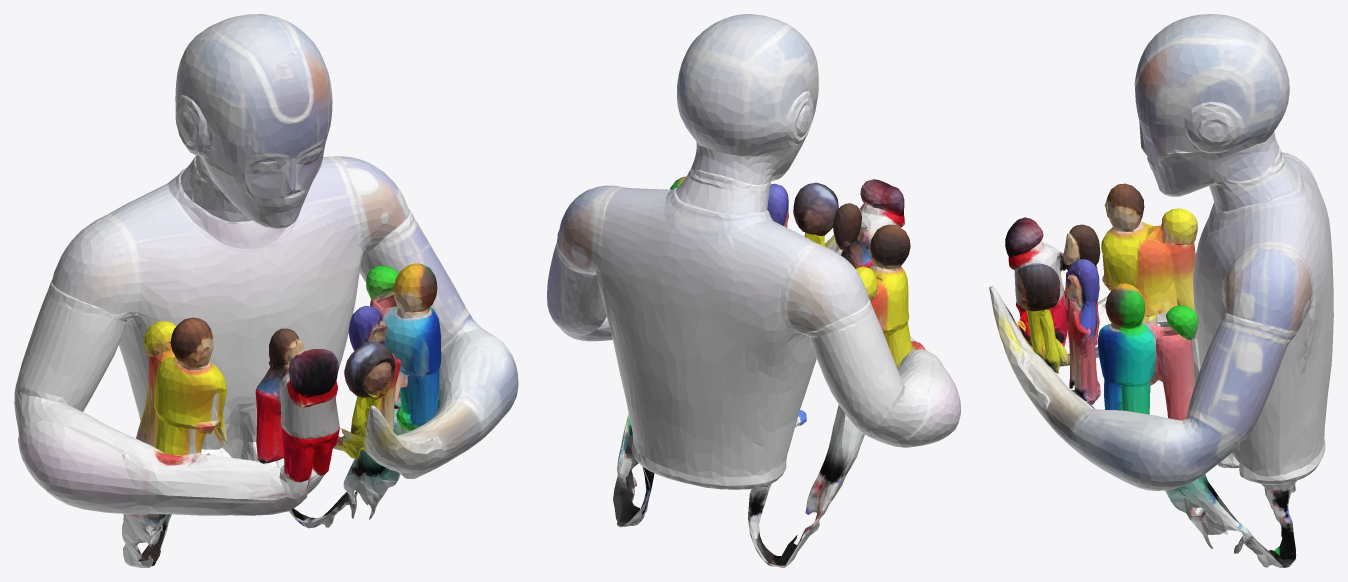
Rendered from modelo1.glb.
3 views of the same model, side by side, from view 1: azimuth 30°, elevation 25°; view 2: azimuth 150°, elevation 25°; view 3: azimuth 270°, elevation 25° (orthographic). The views are drawn at different scales.
Parts seen in each view (by area): view 1: world; view 2: world; view 3: world.
Part boxes in pixels (box(x1,y1,x2,y2)): world: box(14, 14, 518, 567); world: box(547, 14, 960, 567); world: box(989, 14, 1333, 567).
Size of the model in its own units: 0.8628 by 1 by 0.624.
Materials: 1 (1 with a texture image).
